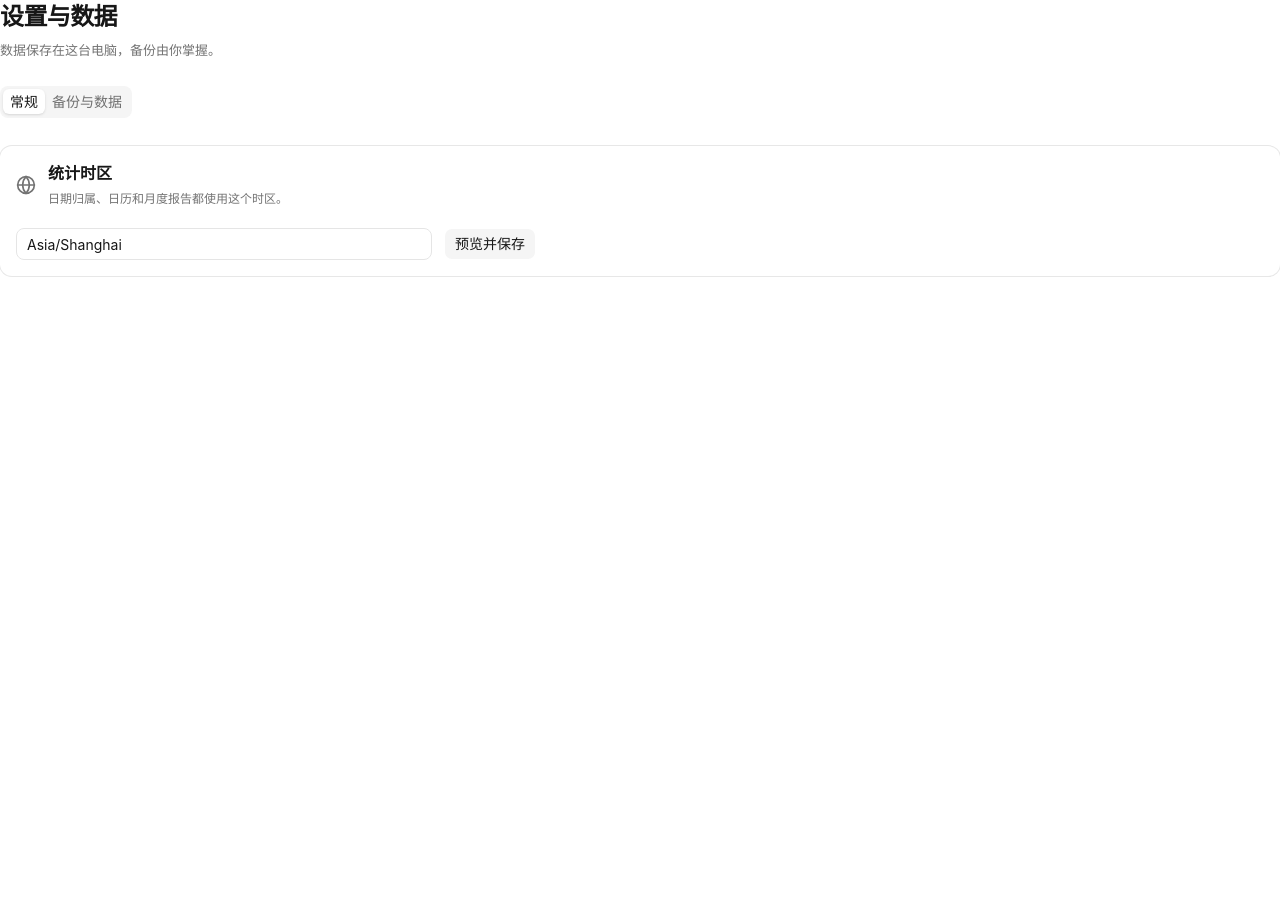
Scenario: refreshes after creating and deleting a snapshot
Press the mouse on the tab "备份与数据" at (87, 102), box [45,89,129,114]
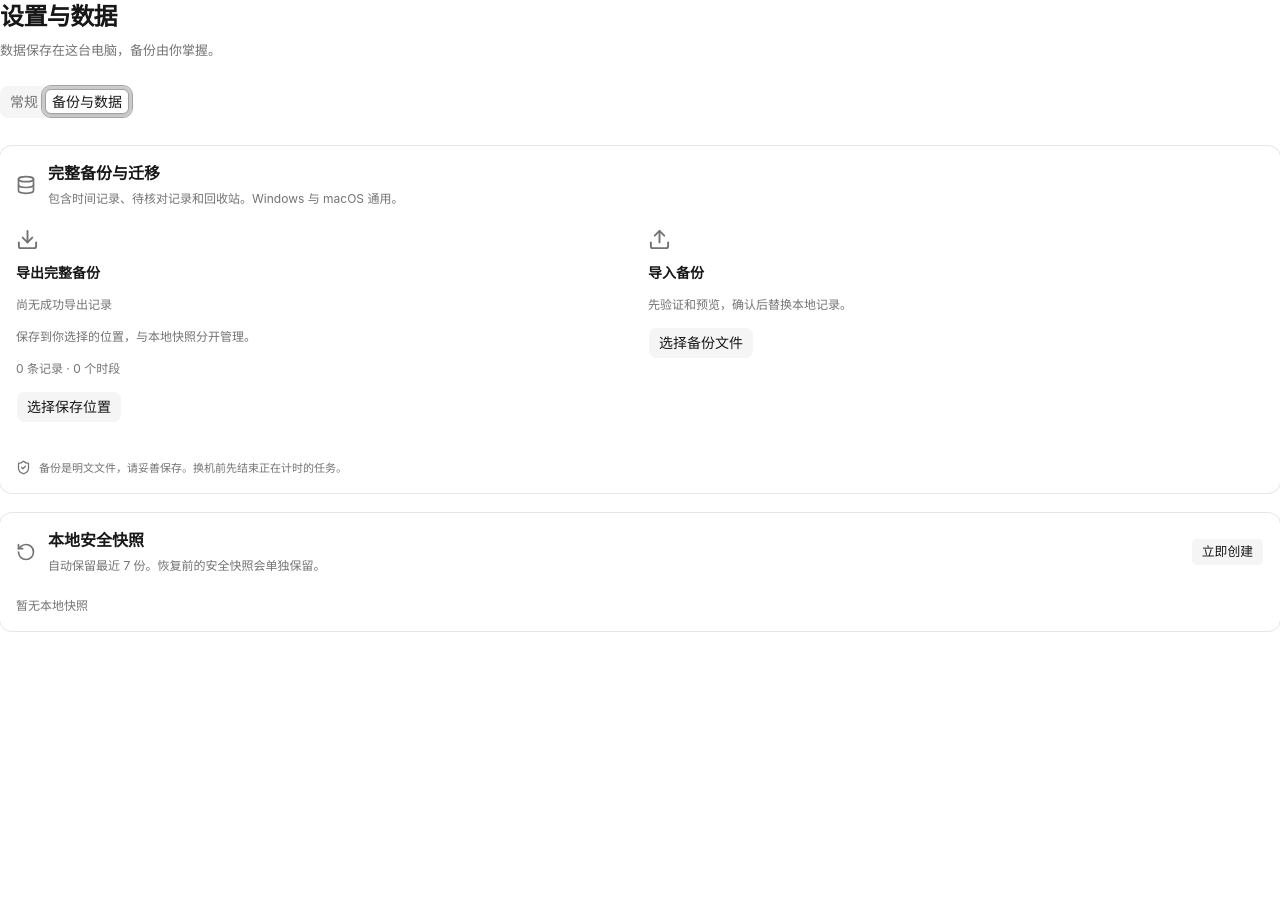
Now the text "暂无本地快照" is shown, box [16,598,88,612]
Click the button "立即创建". click: (1227, 552)
box: [1191,538,1264,566]
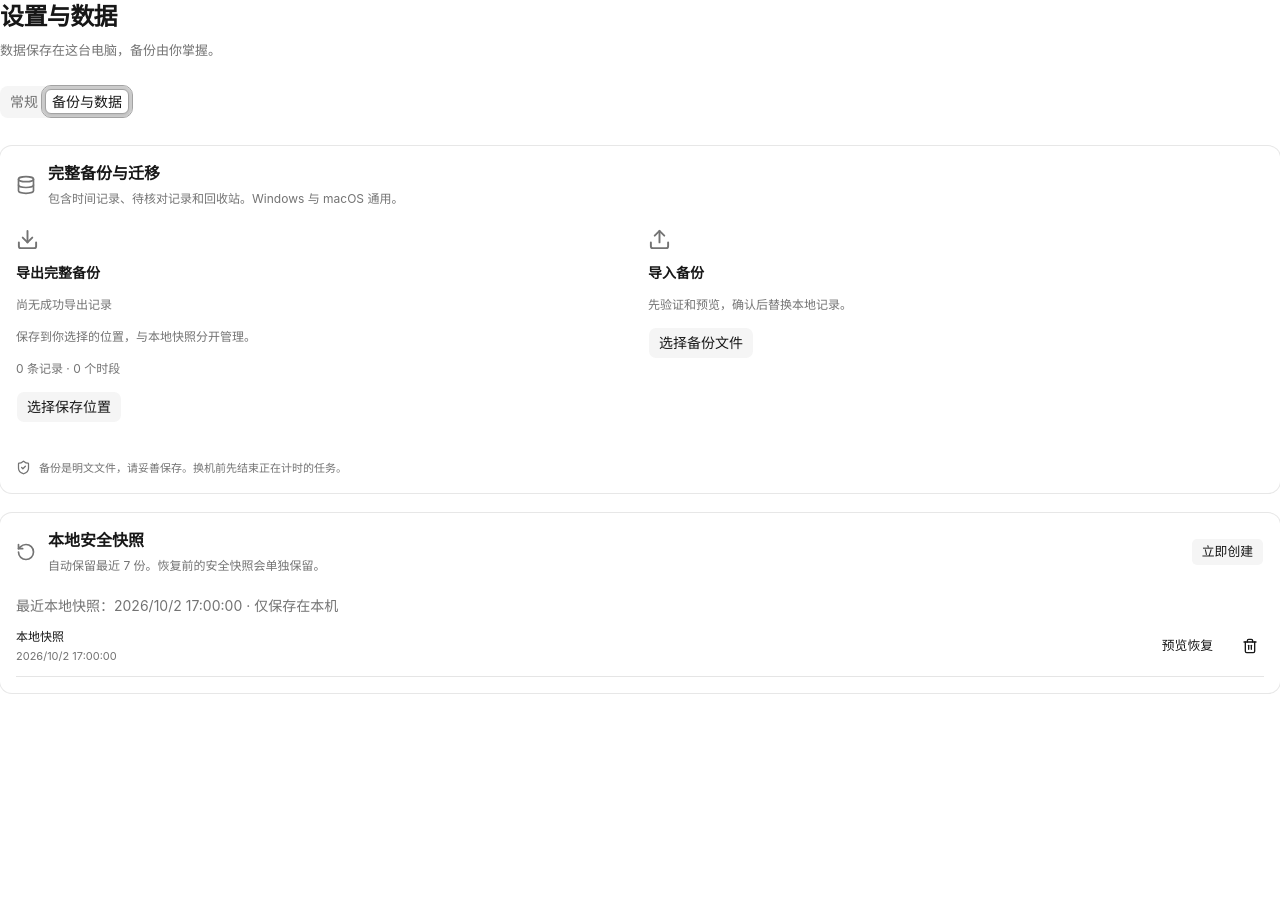
Now the text "最近本地快照：2026/10/2 17:00:00 · 仅保存在本机" is shown, box [16,596,338,614]
Click the button named "删除快照". click: (1250, 646)
box: [1236,632,1264,660]
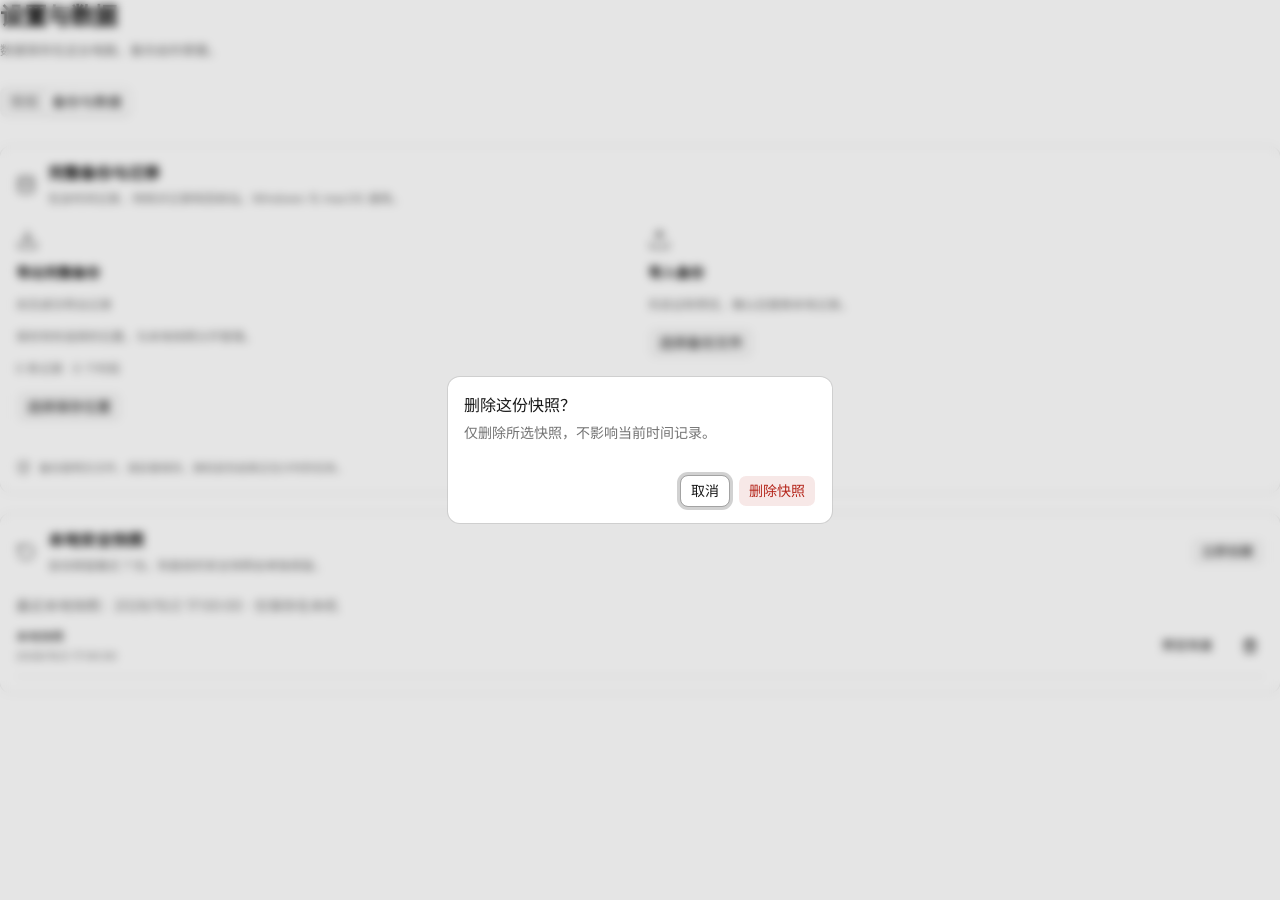
Click the button "删除快照". click: (777, 491)
box: [738,475,816,507]
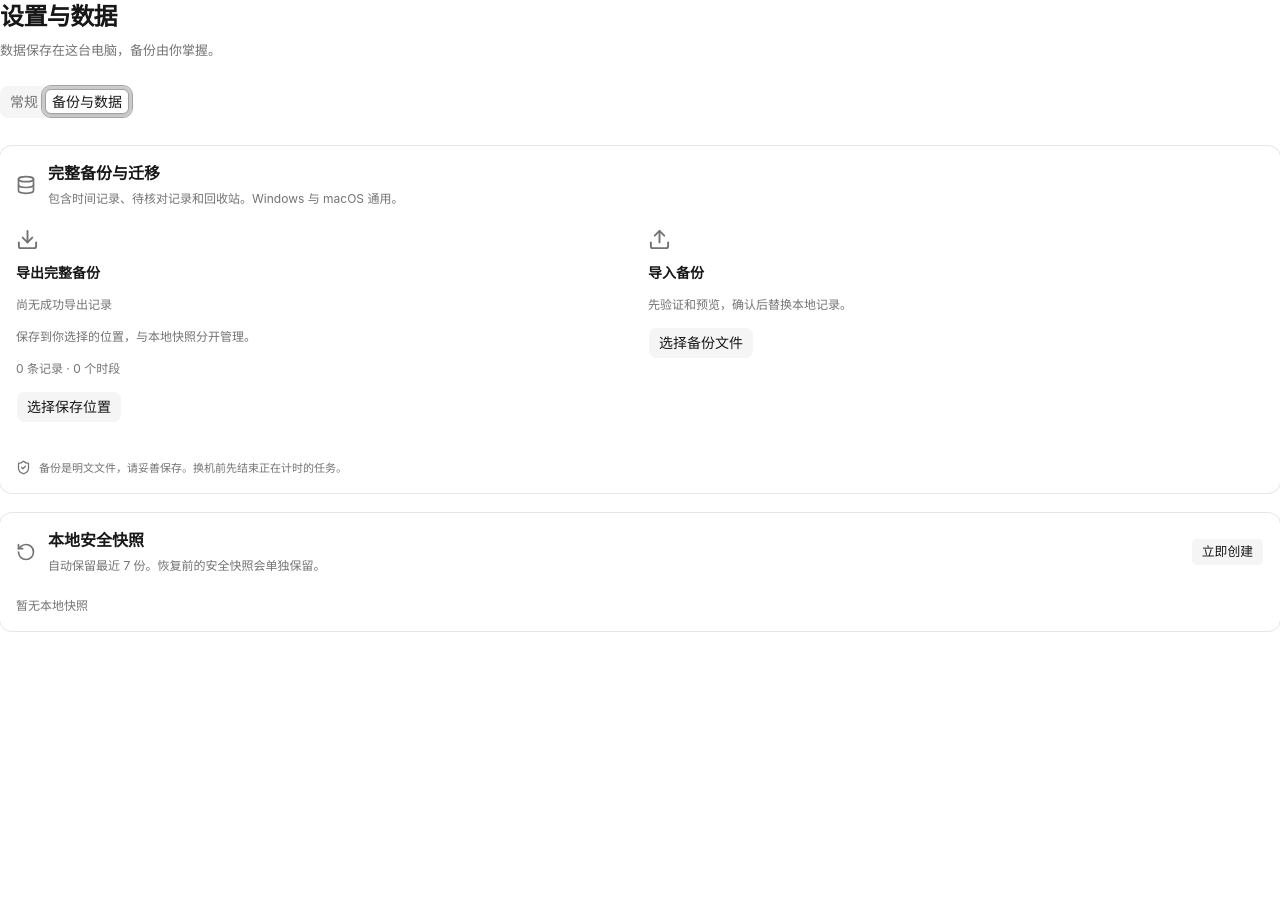
Now the text "暂无本地快照" is shown, box [16,598,88,612]
